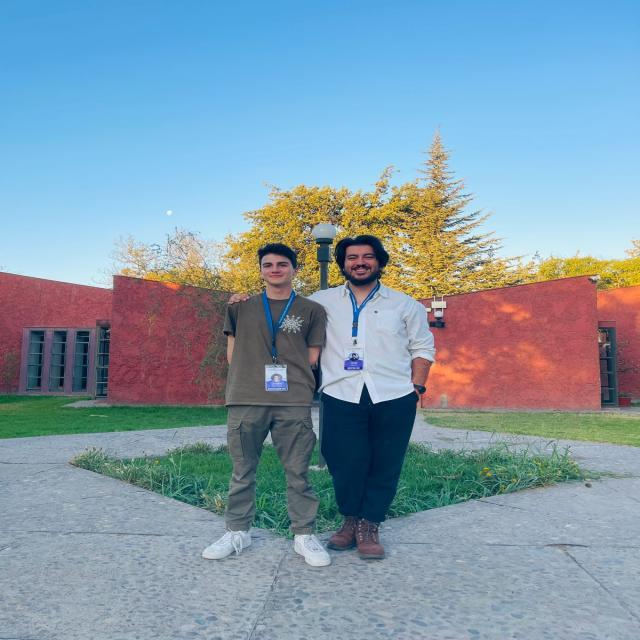person: (302, 232, 443, 570), (205, 230, 334, 579)
